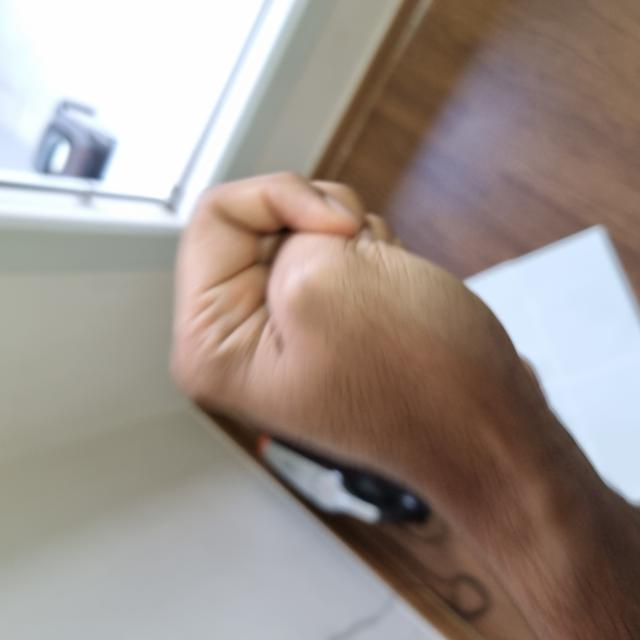Rock: (143, 173, 465, 536)
